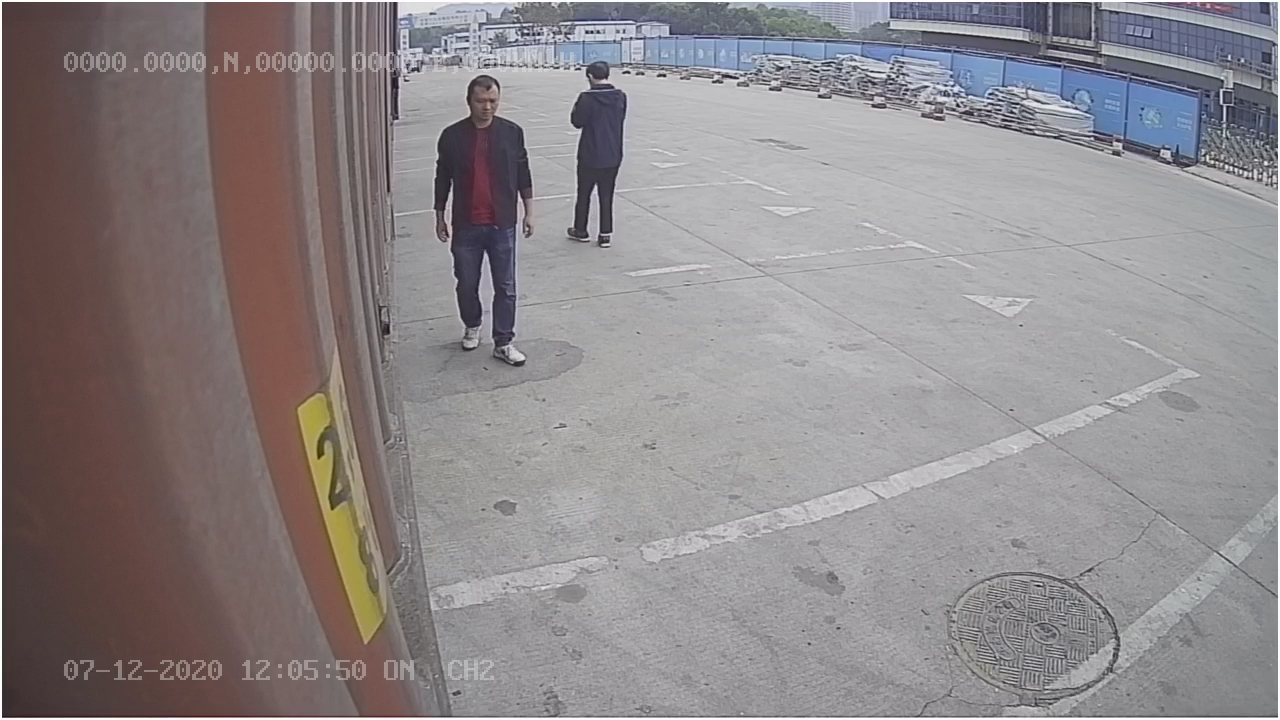person: (430, 70, 541, 366)
